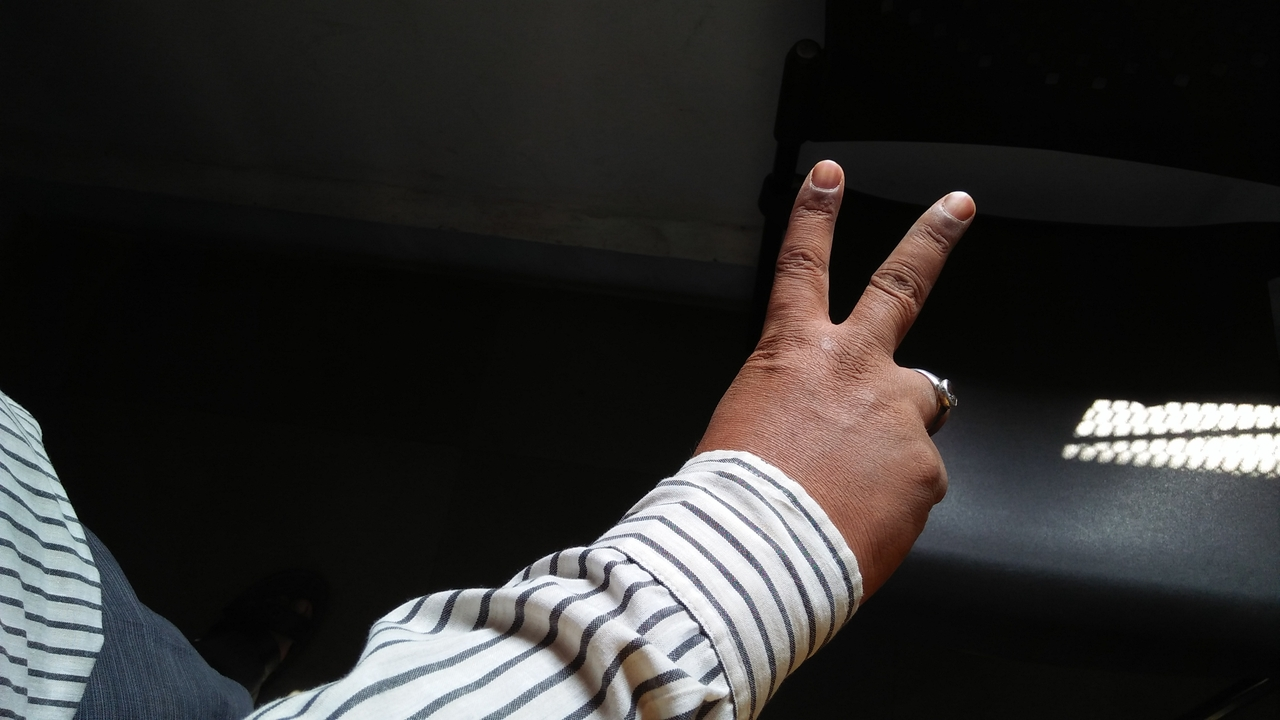fingertip: (930, 182, 988, 230), (798, 150, 852, 200)
